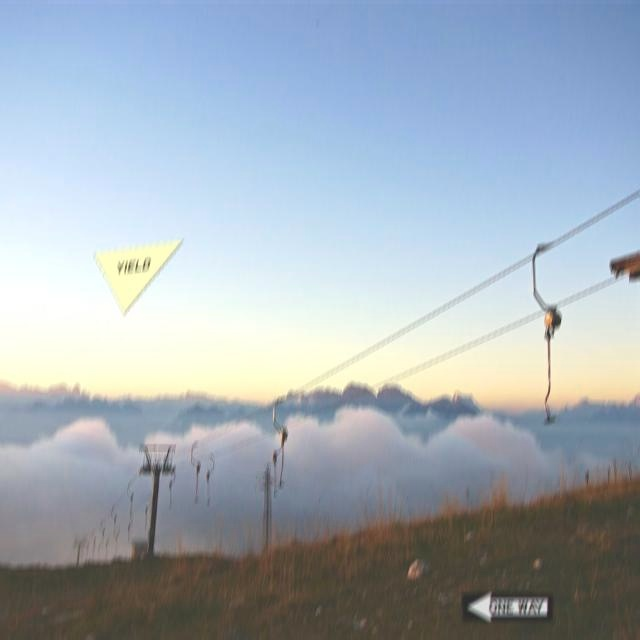ONE_WAY_ left: (462, 593, 554, 622)
YIELD: (93, 240, 185, 315)
